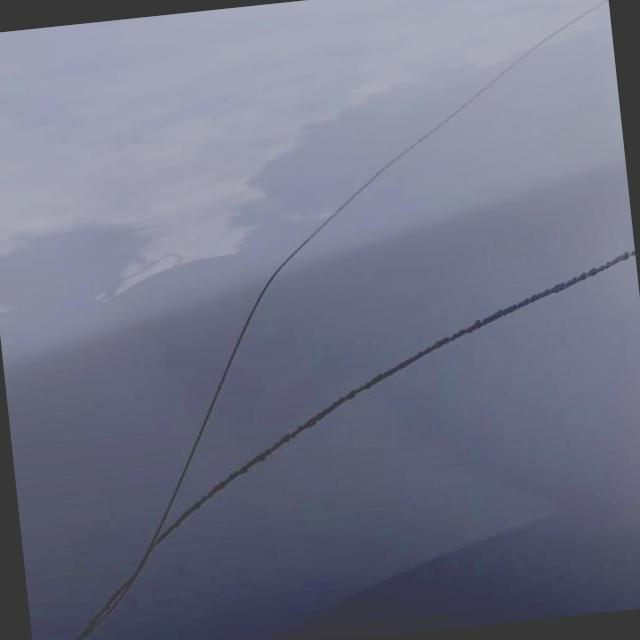crack: (171, 90, 521, 400), (200, 274, 618, 514)
